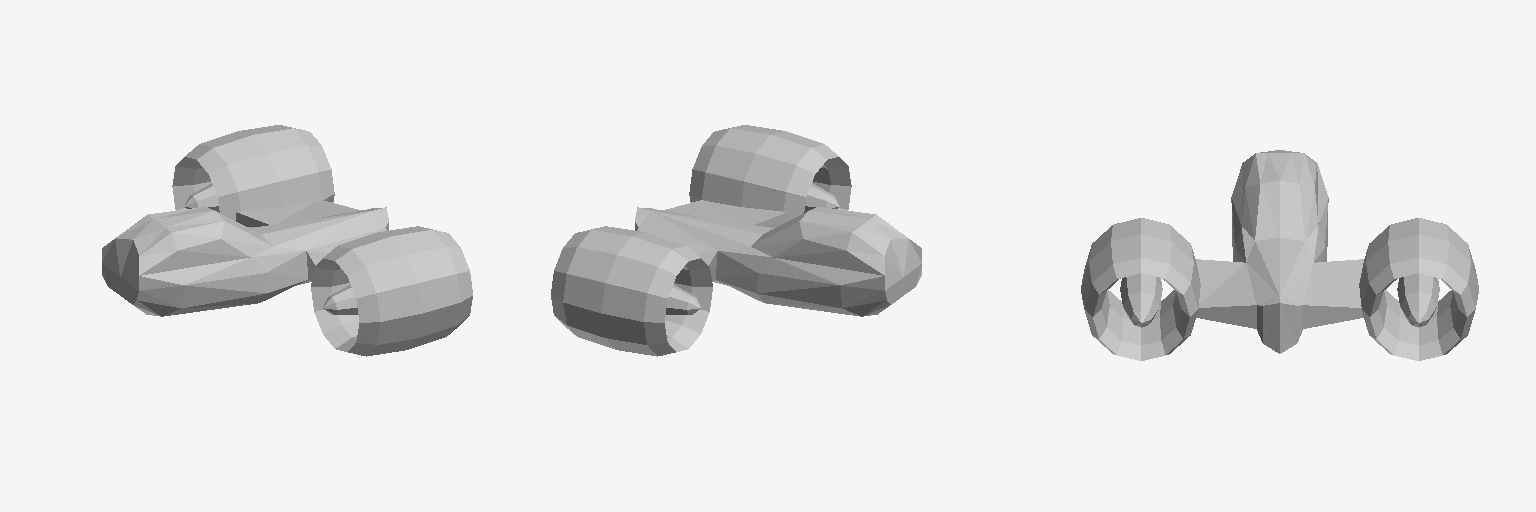
Rendered from serpomobil.obj.
3 renders of one model, left to right at view 1: azimuth 30°, elevation 25°; view 2: azimuth 150°, elevation 25°; view 3: azimuth 270°, elevation 25°, orthographic.
Visible parts, largest first — view 1: zomg; view 2: zomg; view 3: zomg.
Part boxes in pixels (bbox=[...]): zomg: bbox=[102, 125, 472, 356]; zomg: bbox=[551, 125, 921, 356]; zomg: bbox=[1081, 150, 1478, 360].
Size of the model in its own units: 6.48 by 2.54 by 8.2.